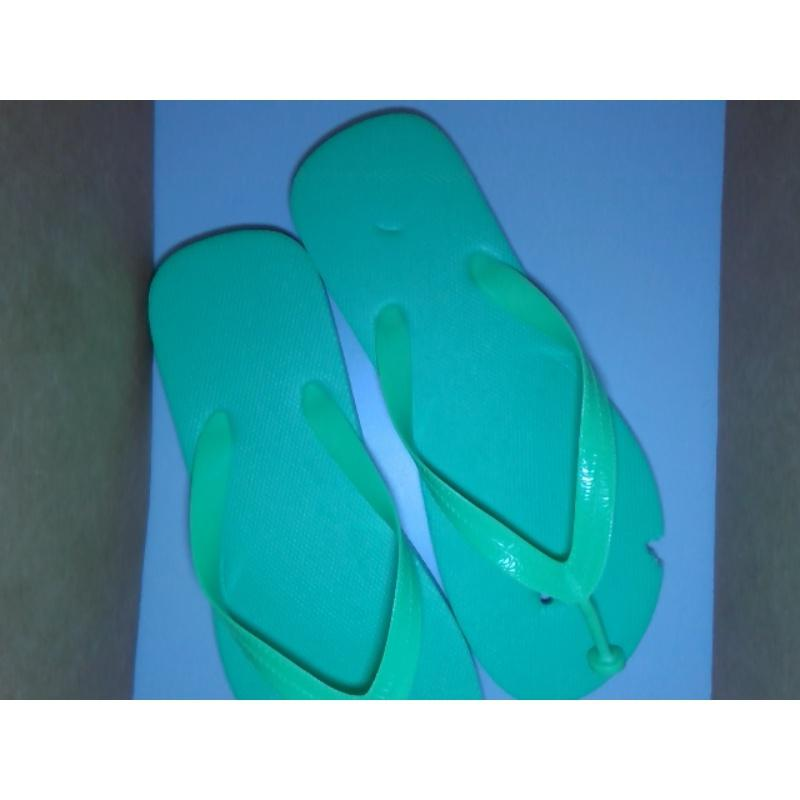chipped: (634, 521, 676, 581)
detached: (578, 624, 640, 688)
